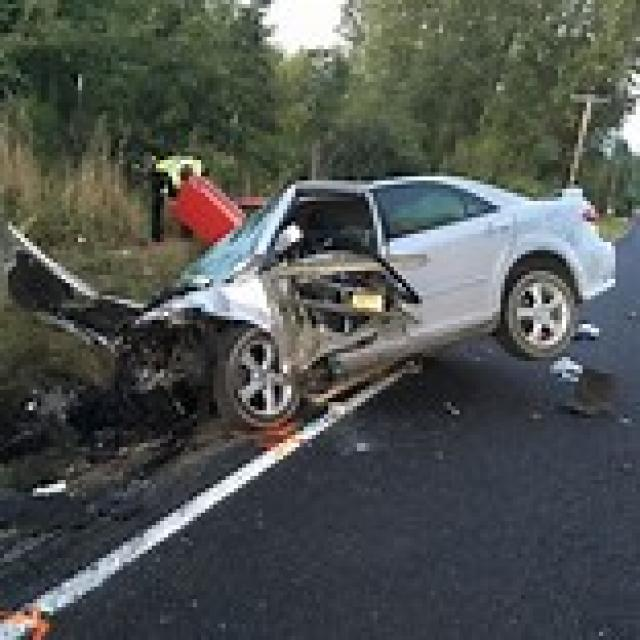Accident: (131, 88, 607, 473)
